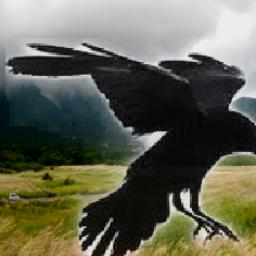Crow: (5, 40, 256, 256)
